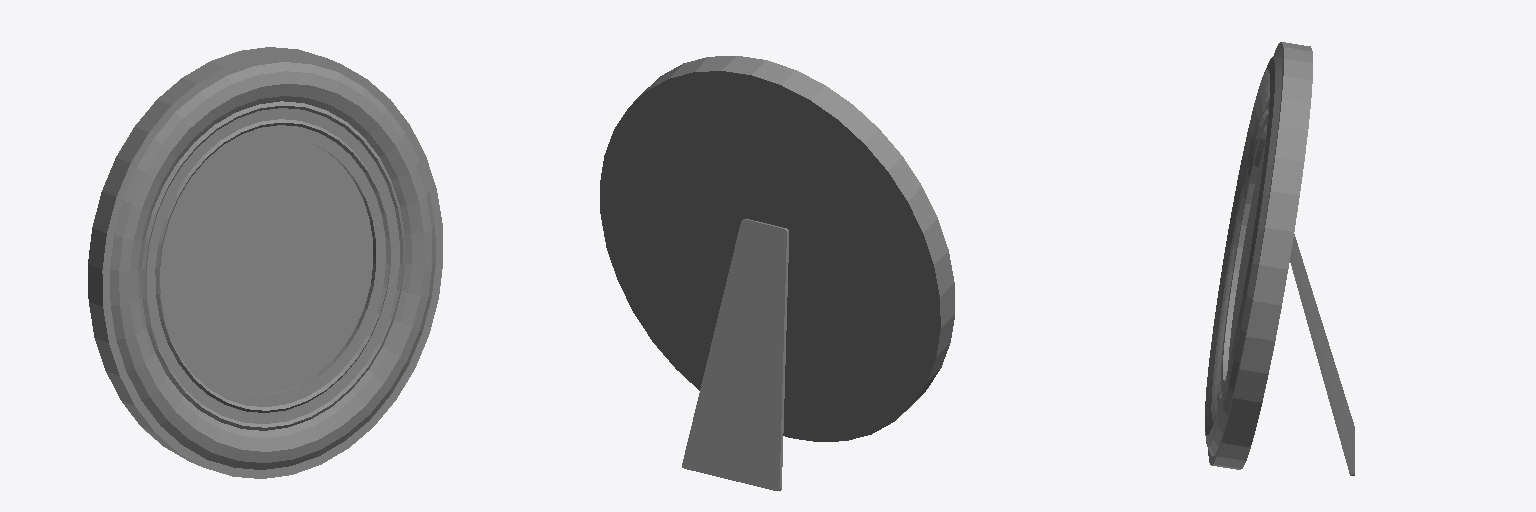
Rendered from SM_frame_02.obj.
3 views of the same model, side by side, from view 1: azimuth 30°, elevation 25°; view 2: azimuth 150°, elevation 25°; view 3: azimuth 270°, elevation 25° (orthographic).
Visible parts, largest first — view 1: frame_02; view 2: frame_02; view 3: frame_02.
Part boxes in pixels (x1,y1,x2,y2): frame_02: (88, 47, 442, 478); frame_02: (600, 56, 954, 490); frame_02: (1205, 42, 1354, 475).
Size of the model in its own units: 12.54 by 13.95 by 4.83.